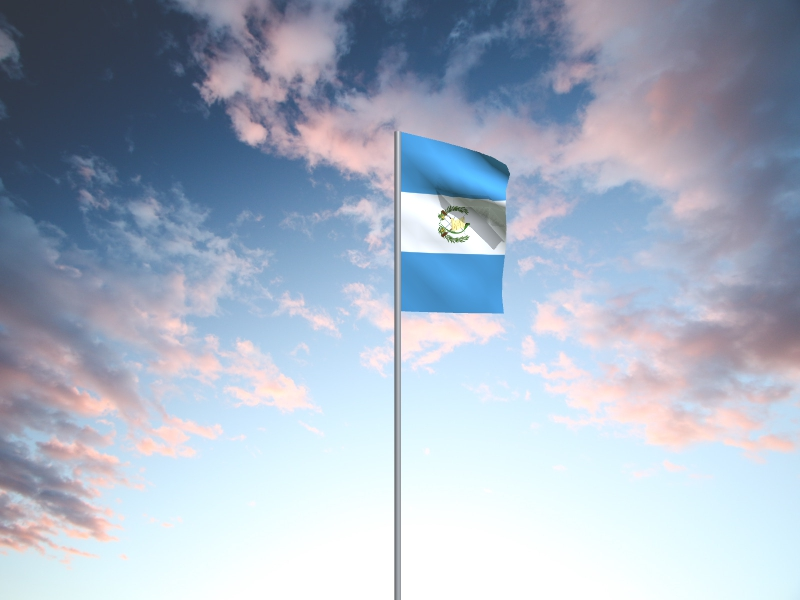gt: (401, 133, 512, 315)
